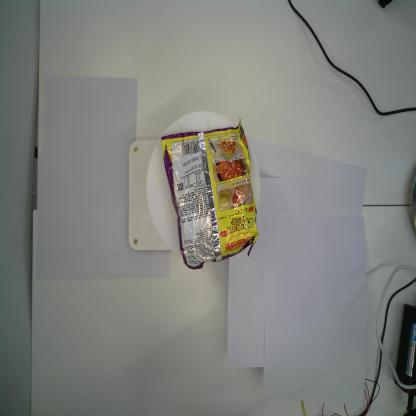Instant Noodles: (160, 117, 260, 271)
